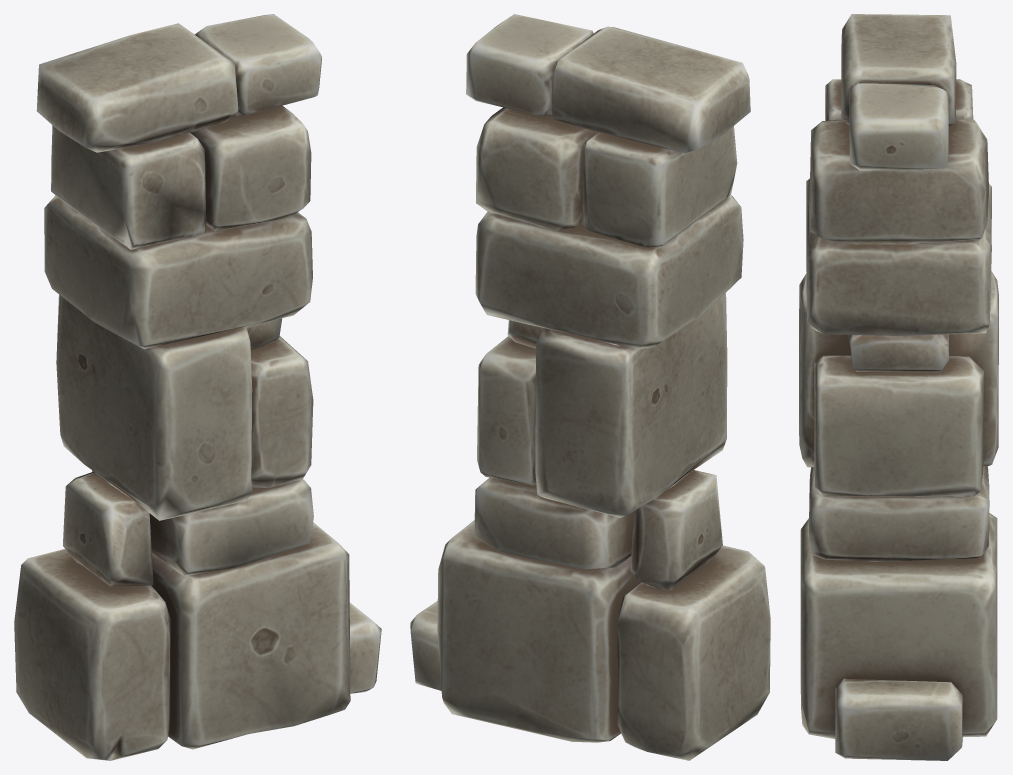
Rendered from stone.glb.
3 views of the same model, side by side, from view 1: azimuth 30°, elevation 25°; view 2: azimuth 150°, elevation 25°; view 3: azimuth 270°, elevation 25° (orthographic). The views are drawn at different scales.
Visible parts, largest first — view 1: Stylized_Stone_Bricks; view 2: Stylized_Stone_Bricks; view 3: Stylized_Stone_Bricks.
Part boxes in pixels (box(x1,y1,x2,y2)): Stylized_Stone_Bricks: box(14, 14, 381, 760); Stylized_Stone_Bricks: box(410, 14, 770, 760); Stylized_Stone_Bricks: box(799, 14, 998, 760).
Bounding box in the file's own units: 1.24 × 2.6 × 0.7507.
1 material, 1 textured.
